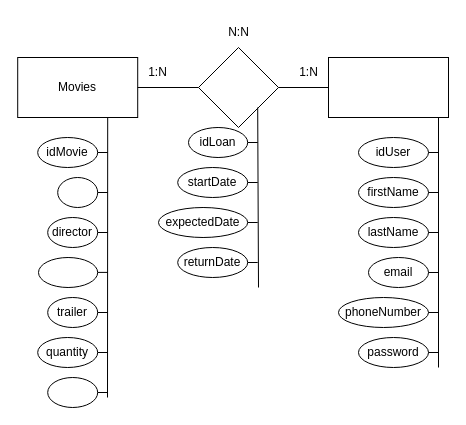
Image size: 466x425. Some labels were removed from this diagram. Each missing label, with the centre of its shape:
"Loans" belongs at pixel 238 87.
"path" belongs at pixel 72 392.
"synopsis" belongs at pixel 68 272.
"title" belongs at pixel 77 192.
"Users" belongs at pixel 388 87.
